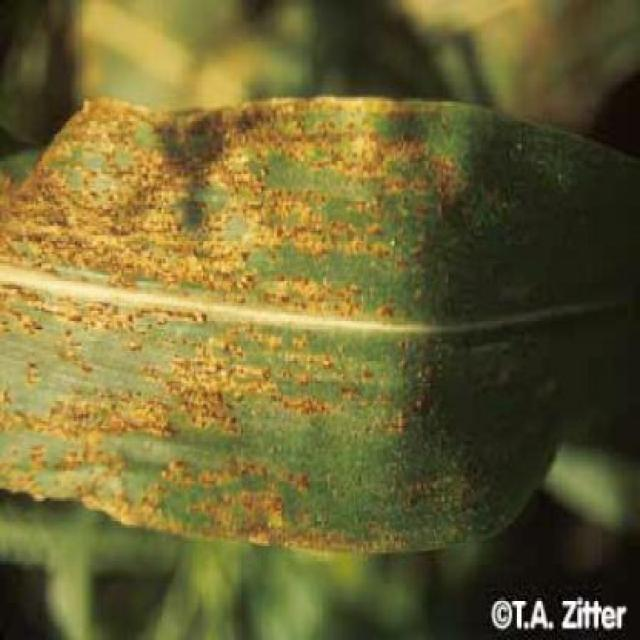Corn_Rust: (0, 78, 585, 554)
